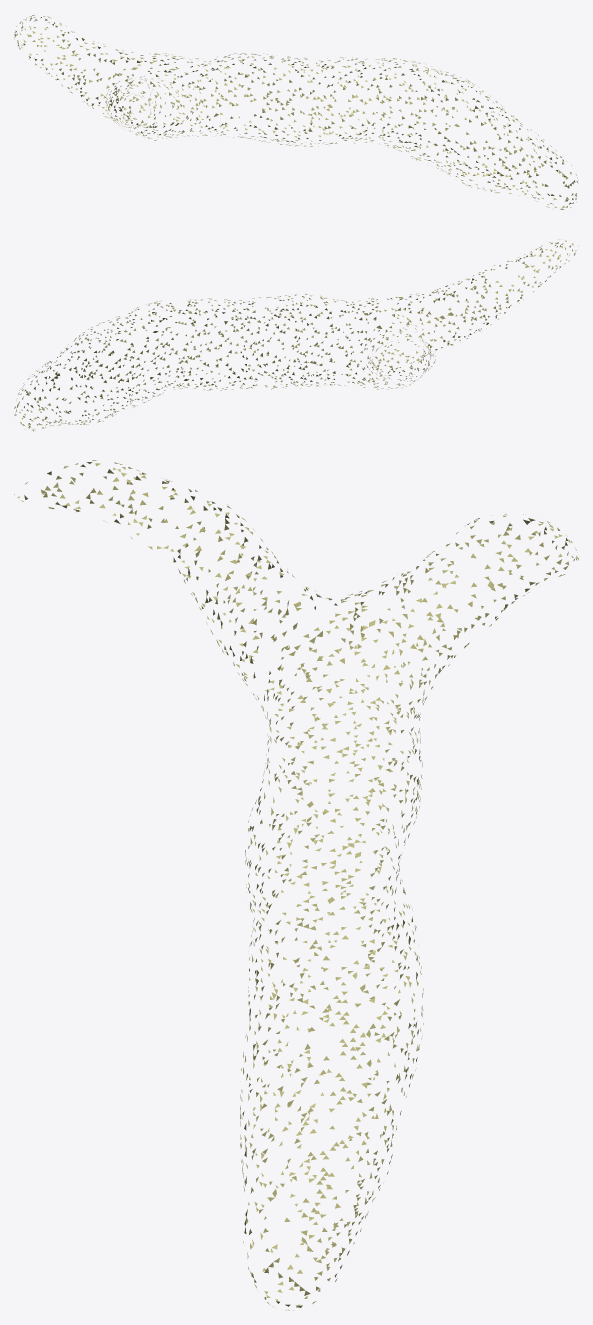
The model's file is morph_009.glb.
3 views of the same model, one above another, from view 1: azimuth 30°, elevation 25°; view 2: azimuth 150°, elevation 25°; view 3: azimuth 270°, elevation 25° (orthographic). The views are drawn at different scales.
Size of the model in its own units: 110 by 55.99 by 63.35.
